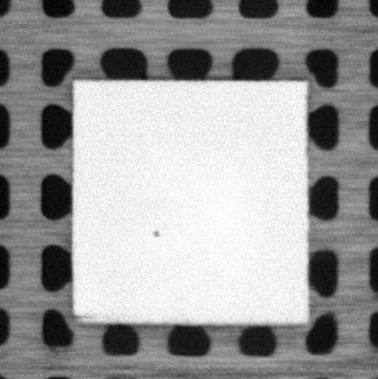DIE_INK: (150, 228, 161, 238)
